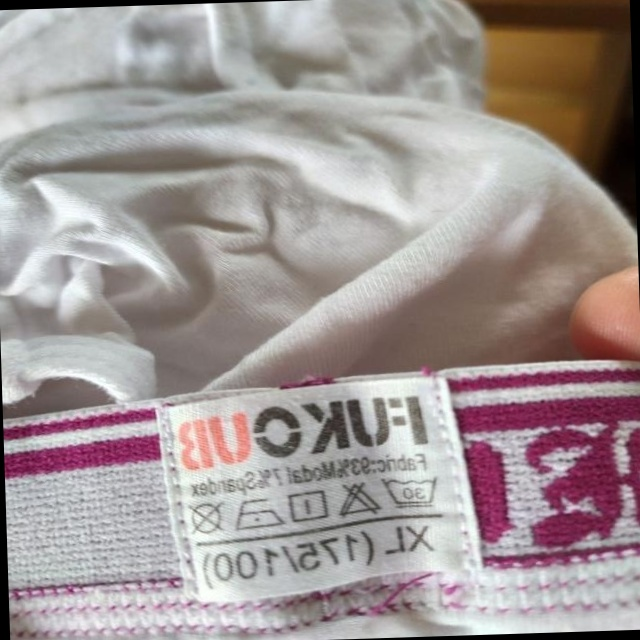30C: (381, 471, 438, 508)
DN_bleach: (334, 480, 381, 517)
DN_dry_clean: (184, 499, 227, 536)
iron_low: (233, 495, 283, 532)
